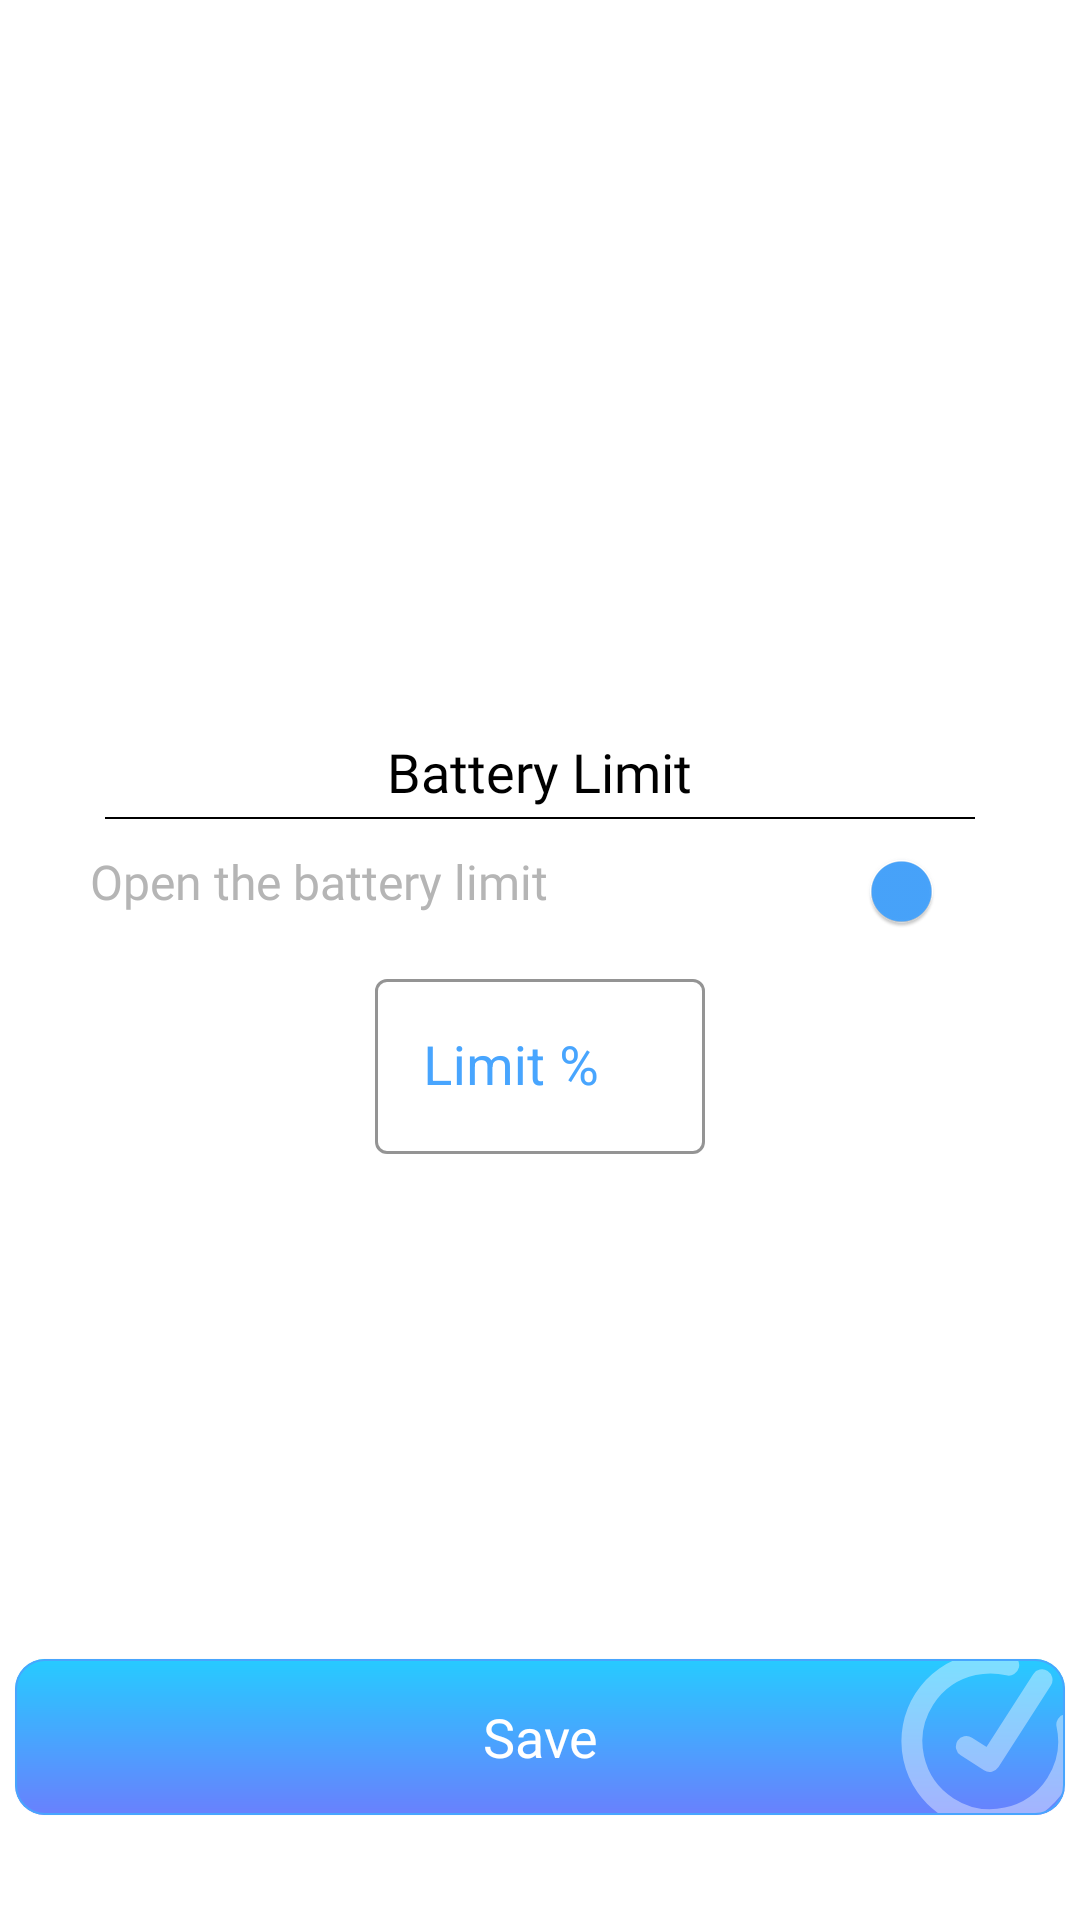

Named icons in this screenshot (1080px×1920px) and their centers, (x,y):
check: (981,1736)
